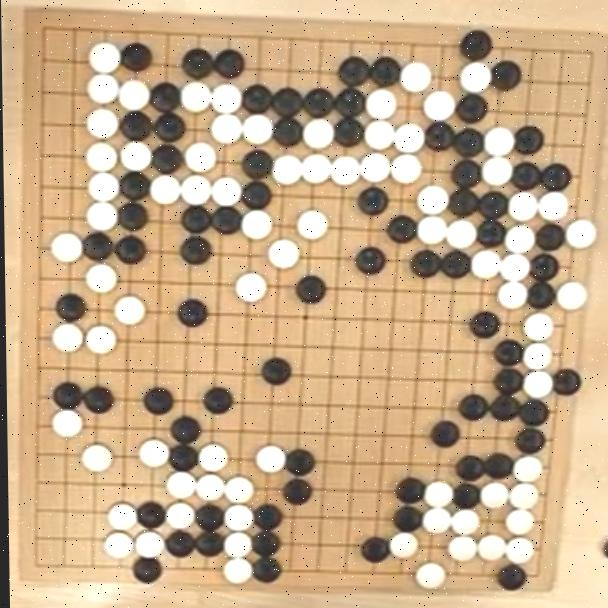corners: (568, 34, 608, 76), (30, 10, 71, 50), (21, 548, 54, 582), (518, 558, 547, 590)
